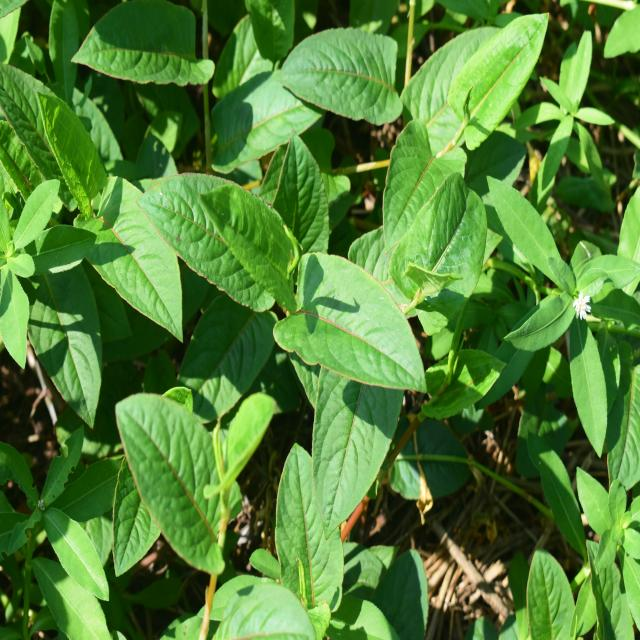Chinese_knotweed: (149, 115, 430, 411), (274, 2, 514, 246)
